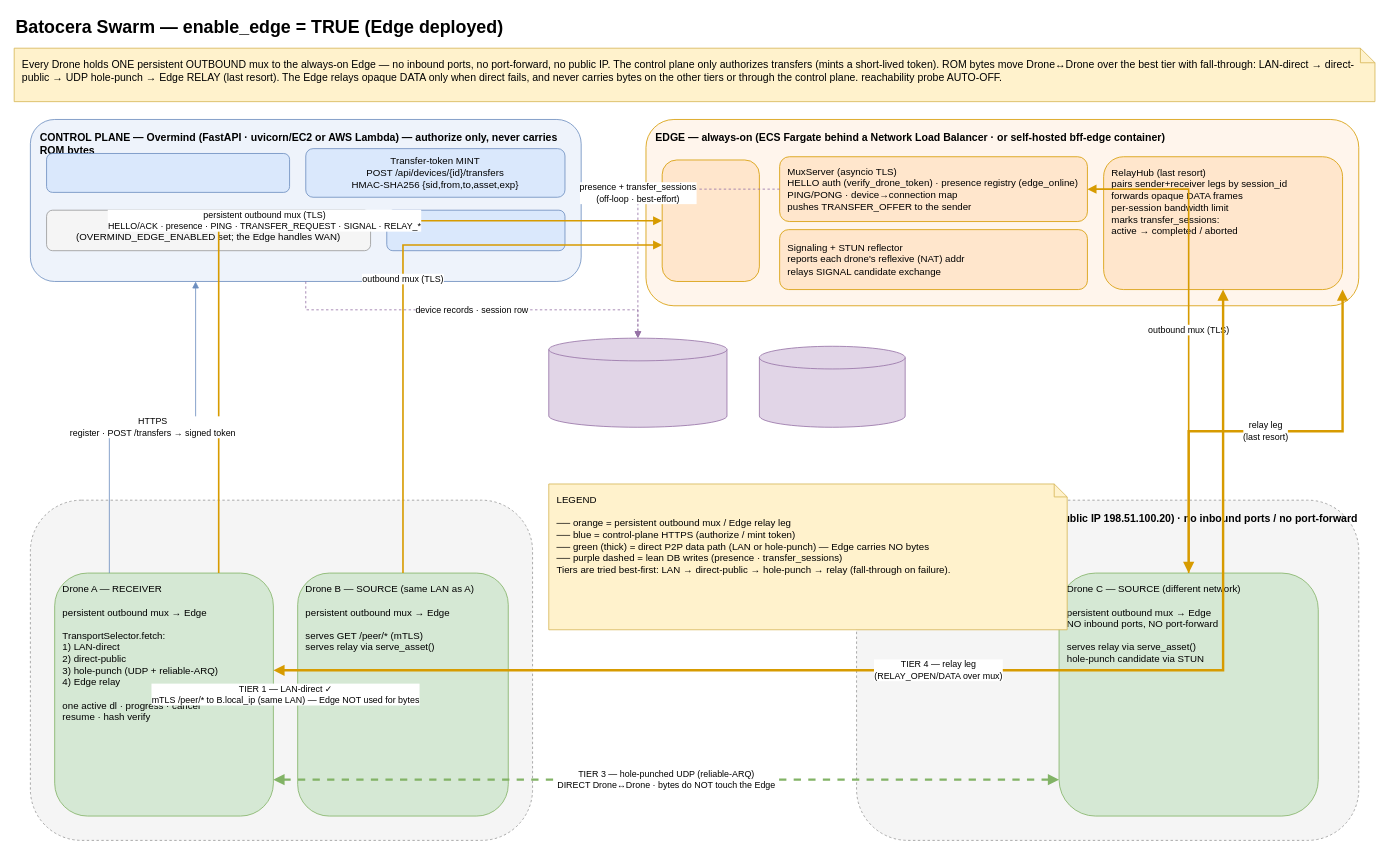
Some shapes in this 1389 by 855 pixel diagram are drawn without their labels. The box of each missing label's shape, as (x1, y1, x2, y2) in pixels:
Auth · RBAC · Registration · CA / mTLS cert signing: (46, 153, 290, 192)
ElastiCache Redis (cache · optional): (759, 345, 905, 427)
HOME NETWORK A — behind NAT A (public IP 203.0.113.10) · no inbound ports: (30, 499, 533, 840)
Monitoring GET /api/admin/transfers Super-Admin “Peer Transfers” panel: (386, 209, 565, 251)
NLB TLS :443 → task :9443: (661, 159, 759, 281)
RDS Postgres transfer_sessions drone_network_state (edge_online, reflexive): (548, 337, 727, 427)
